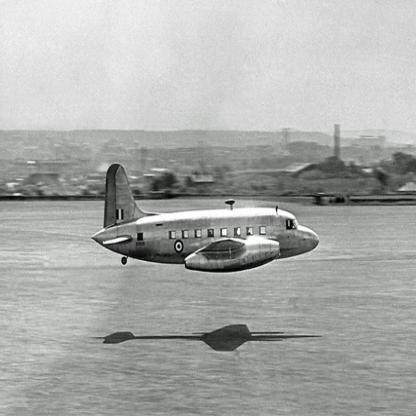CIV_Plane: (87, 152, 320, 288)
